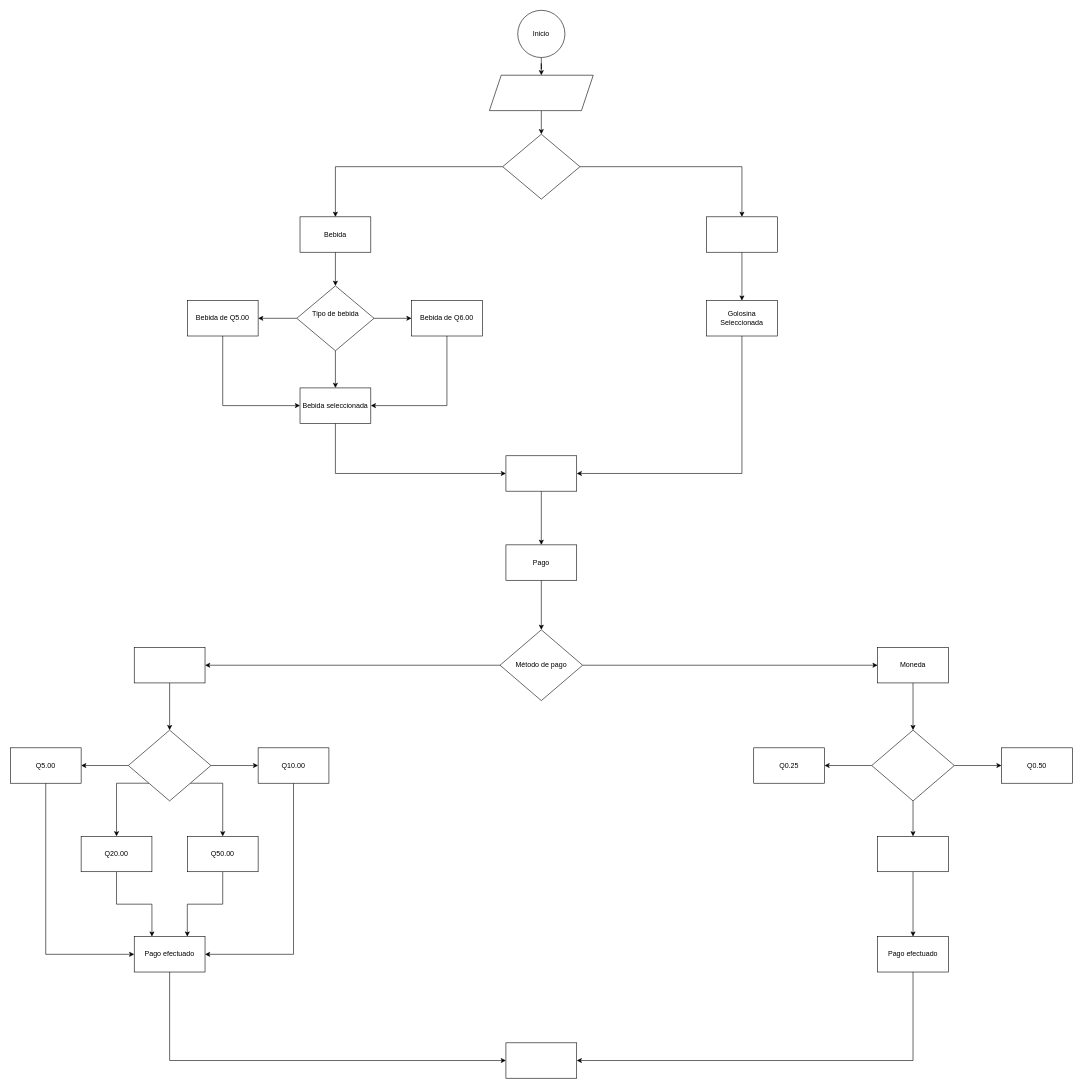
Image size: 1083x1089. Some labels were removed from this diagram. Each missing label, with the box of its shape:
Billete: (134, 647, 205, 683)
Entregar producto: (505, 1042, 577, 1078)
Golosina Q5.00: (706, 216, 777, 252)
Producto Seleccionado: (505, 455, 577, 491)
Q1.00: (877, 836, 948, 872)
Seleccionar productos: (489, 75, 593, 111)
Tipo de billete: (128, 730, 211, 801)
Tipo de moneda: (871, 730, 954, 801)
Tipo de producto: (502, 134, 580, 199)
